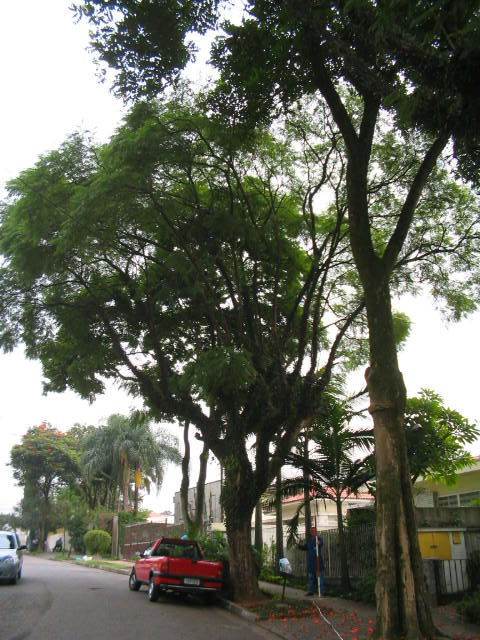crown: (2, 97, 476, 442)
stem: (215, 507, 269, 600)
stick: (306, 479, 325, 595)
tree: (2, 97, 479, 595)
